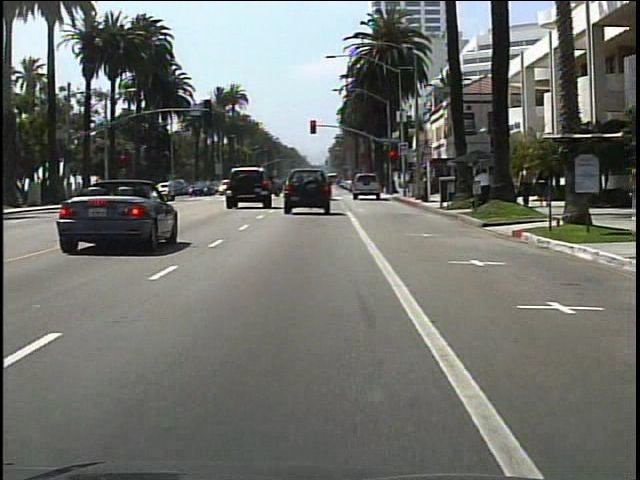person: (473, 165, 496, 208), (517, 160, 536, 210)
